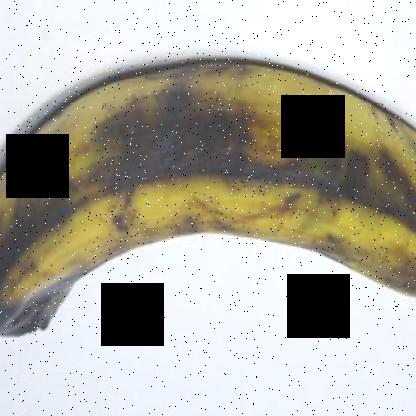overripe: (1, 46, 415, 355)
rotten: (94, 82, 254, 202), (1, 276, 82, 357)
